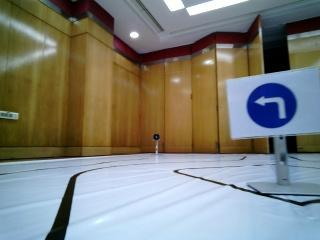left: (229, 82, 320, 134)
